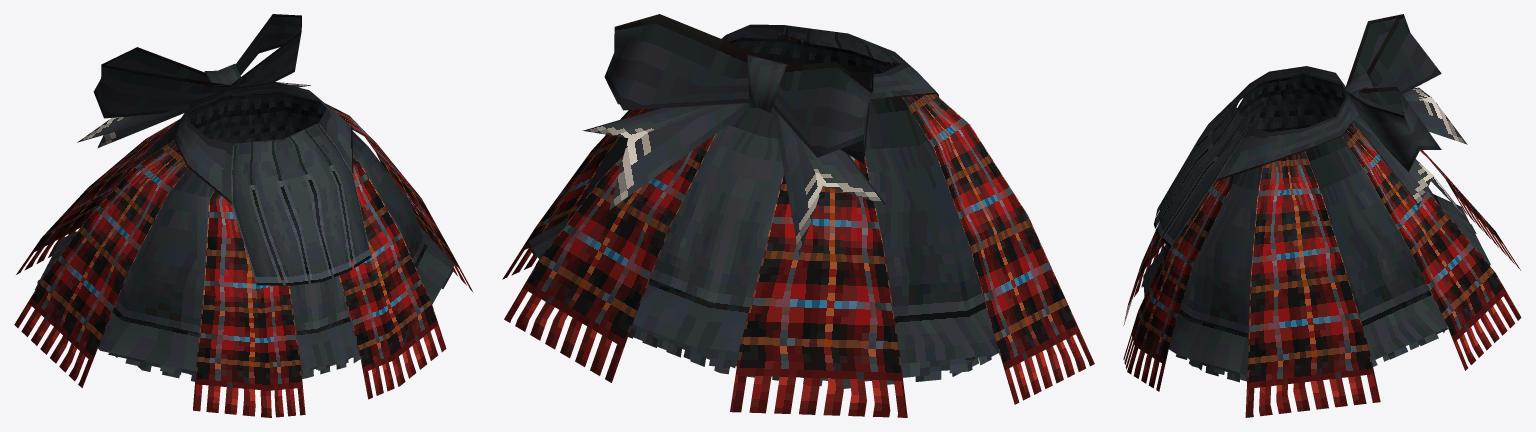
The model's file is f_wst153.glb.
The picture shows the model from 3 angles, left to right: view 1: azimuth 30°, elevation 25°; view 2: azimuth 150°, elevation 25°; view 3: azimuth 270°, elevation 25°; orthographic projection. The views are drawn at different scales.
Bounding box in the file's own units: 101 × 68.21 × 84.67.
Materials: 1 (1 with a texture image).
